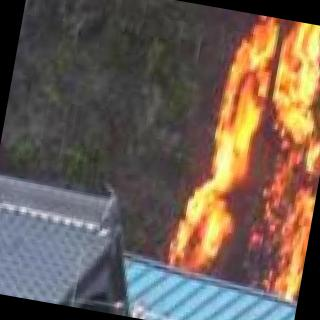fire: (166, 7, 320, 291)
